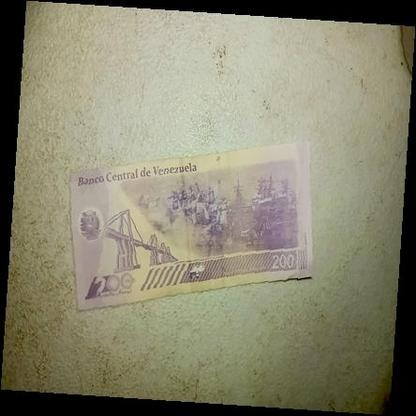two_hundred-back-vef: (68, 137, 314, 311)
